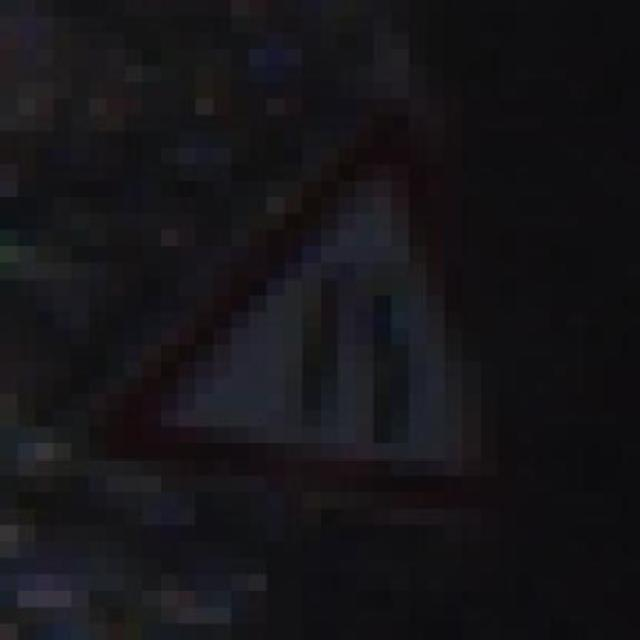-Road narrows on right: (71, 98, 534, 510)
